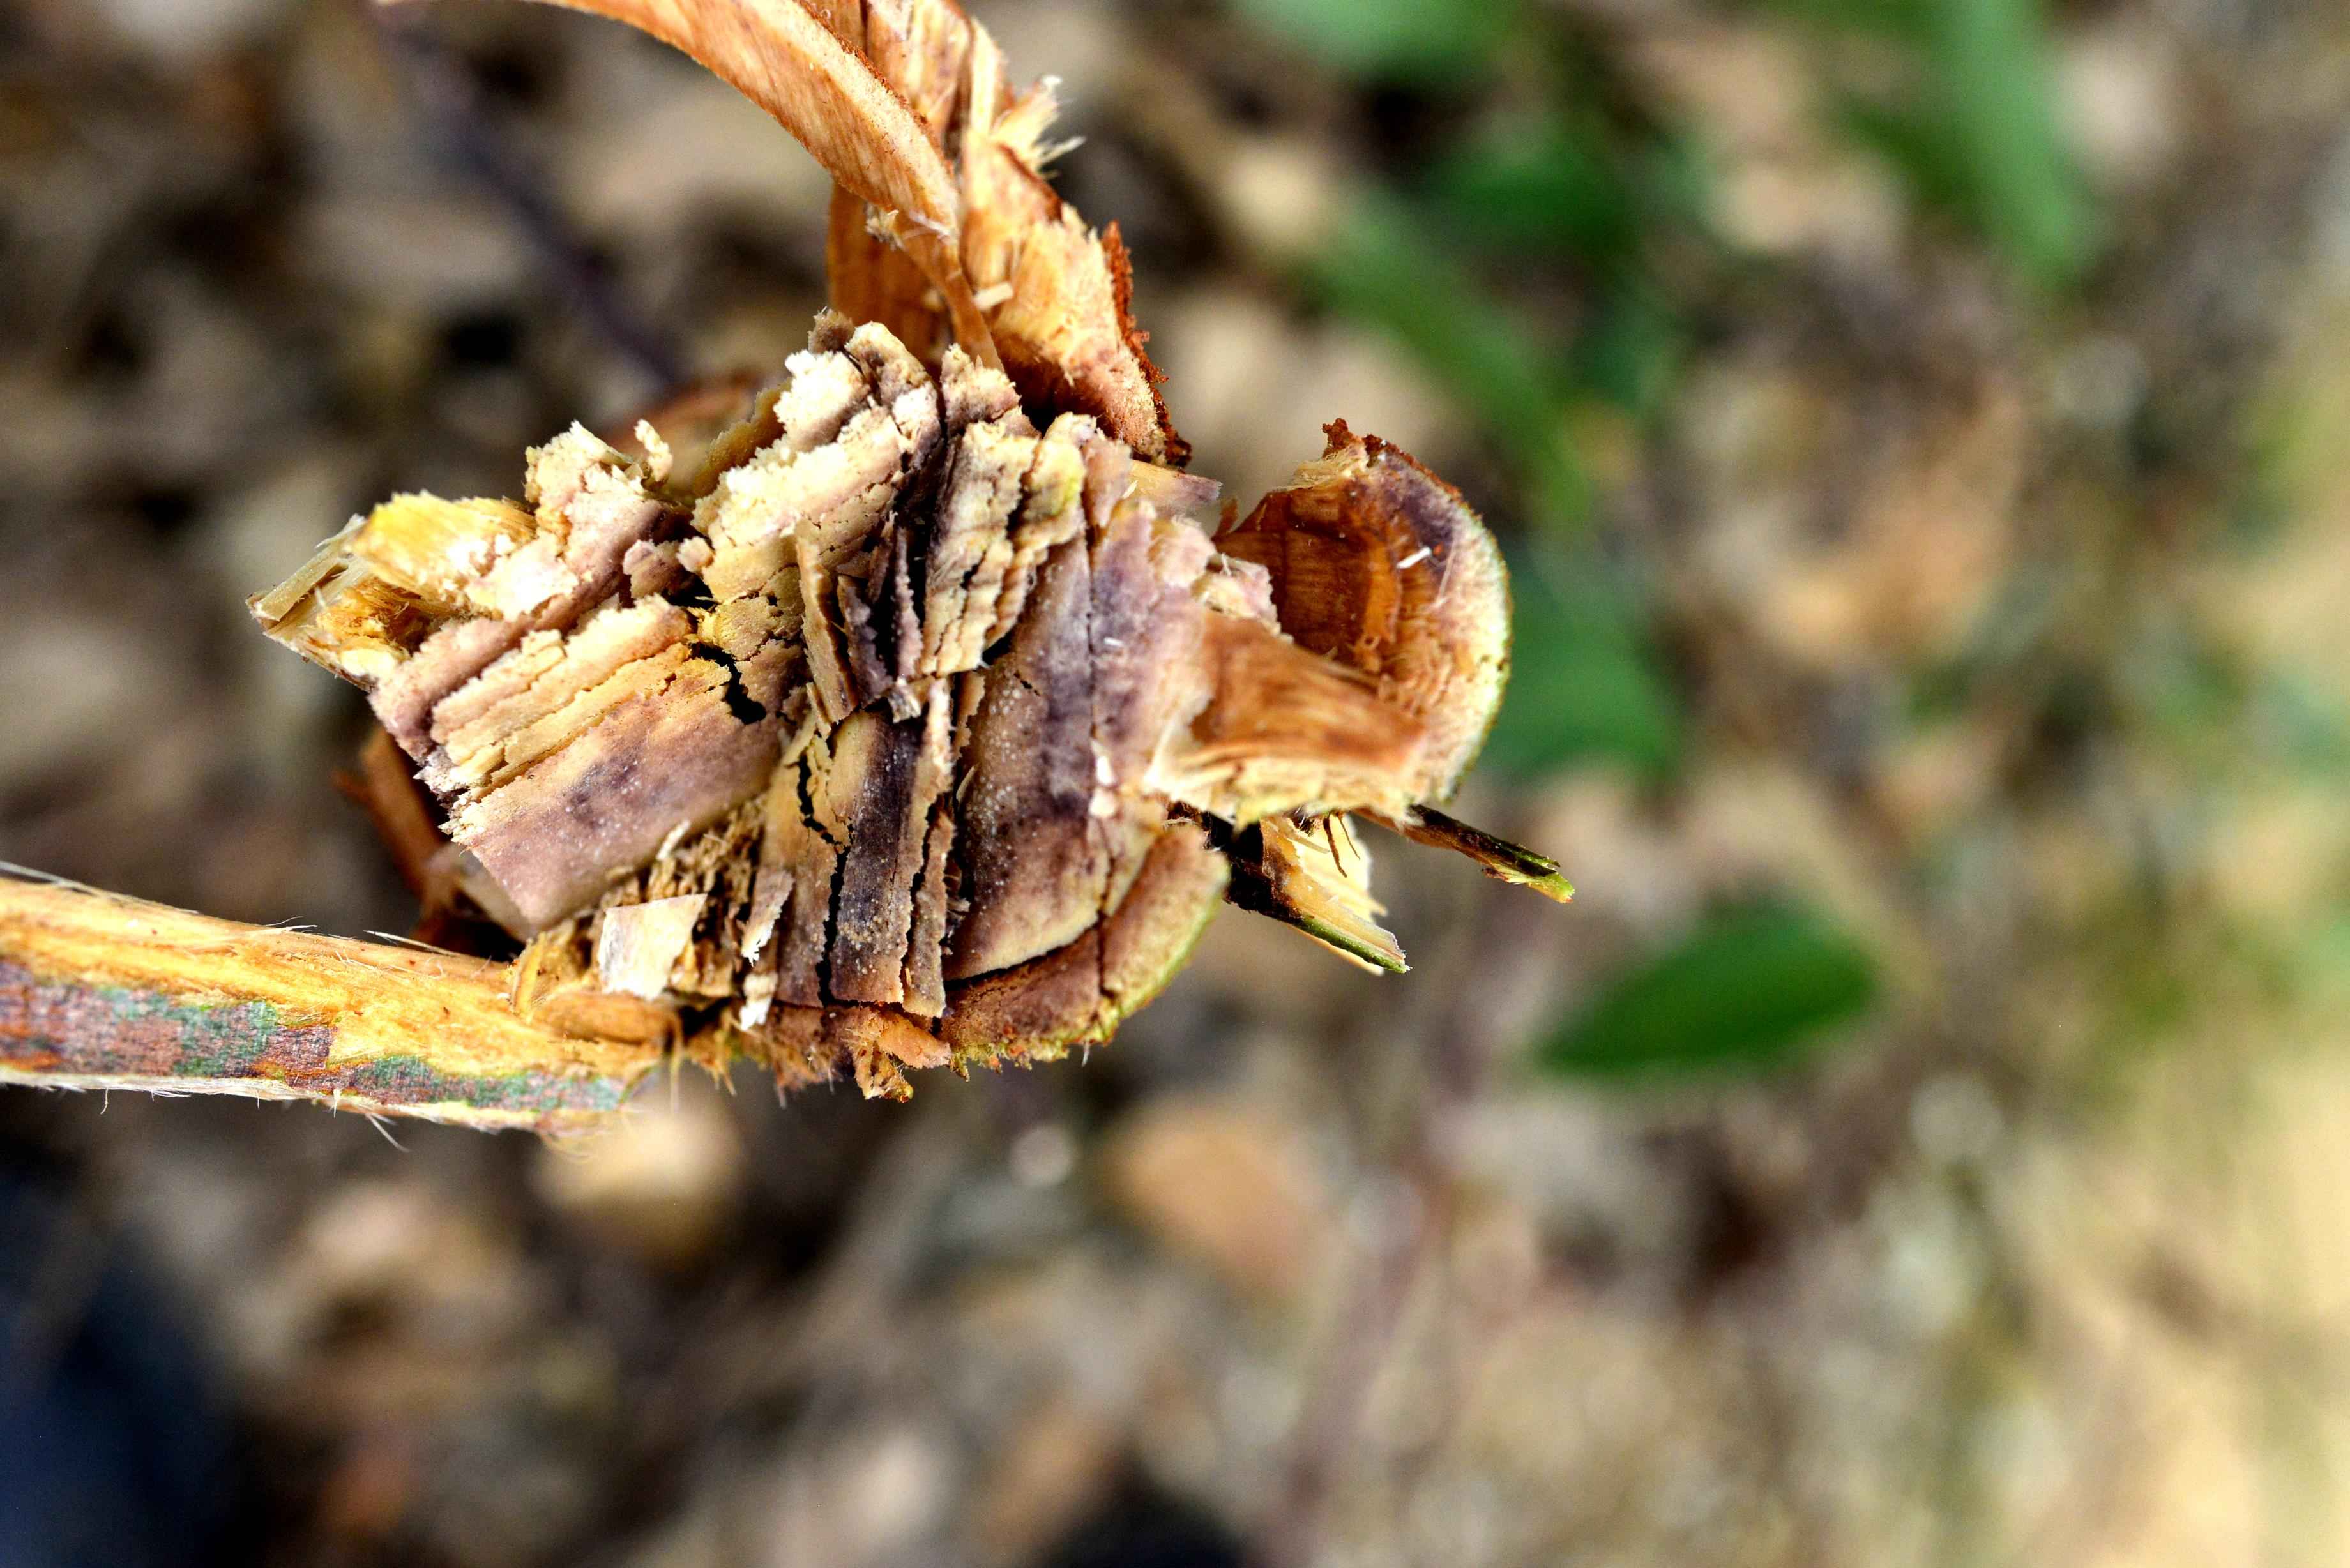Ralstonia: (775, 635, 1038, 989), (520, 768, 660, 870)
